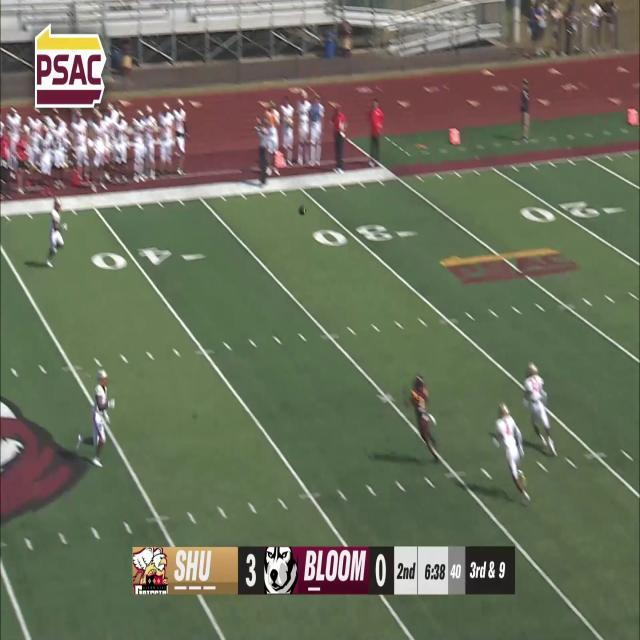football: (298, 205, 308, 218)
